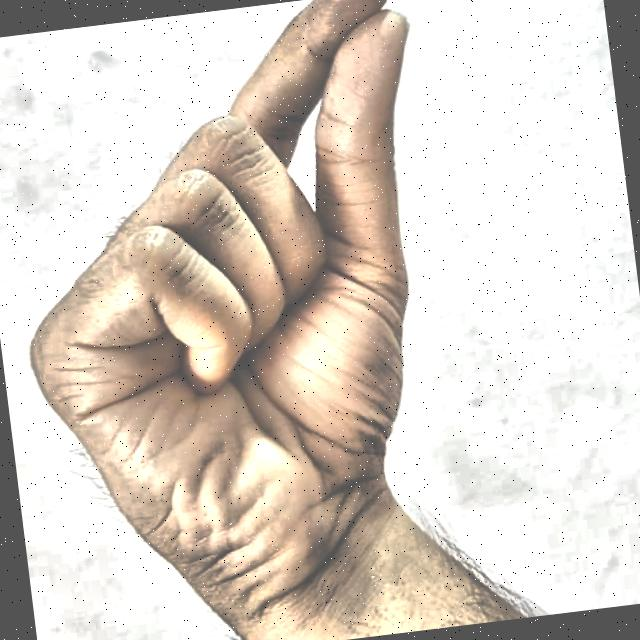Anusshar: (0, 0, 538, 640)
